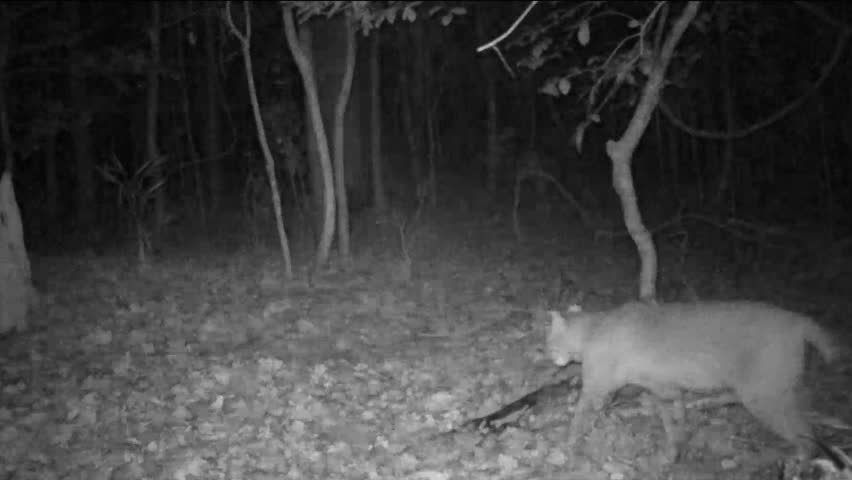bobcat: (544, 297, 852, 449)
